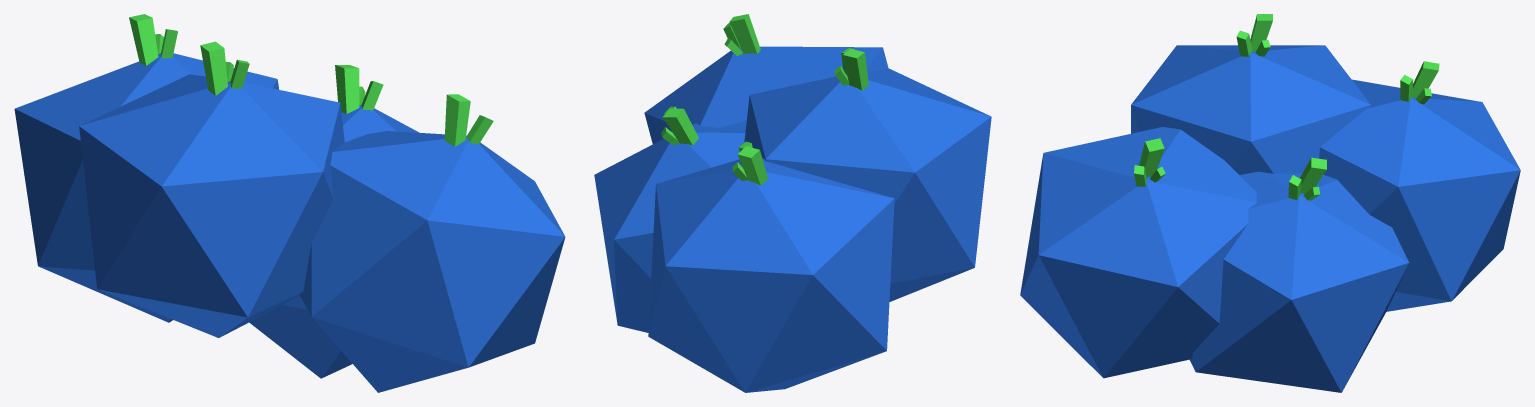
The model's file is Berry.fbx.
3 renders of one model, left to right at view 1: azimuth 30°, elevation 25°; view 2: azimuth 150°, elevation 25°; view 3: azimuth 270°, elevation 25°, orthographic. The views are drawn at different scales.
Visible parts, largest first — view 1: Icosphere.005; view 2: Icosphere.005; view 3: Icosphere.005.
Boxes of the visible parts, x1=… form: Icosphere.005: x1=14, y1=14, x2=565, y2=392; Icosphere.005: x1=594, y1=14, x2=991, y2=392; Icosphere.005: x1=1020, y1=14, x2=1520, y2=392.
Bounding box in the file's own units: 0.2905 × 0.2465 × 0.3526.
